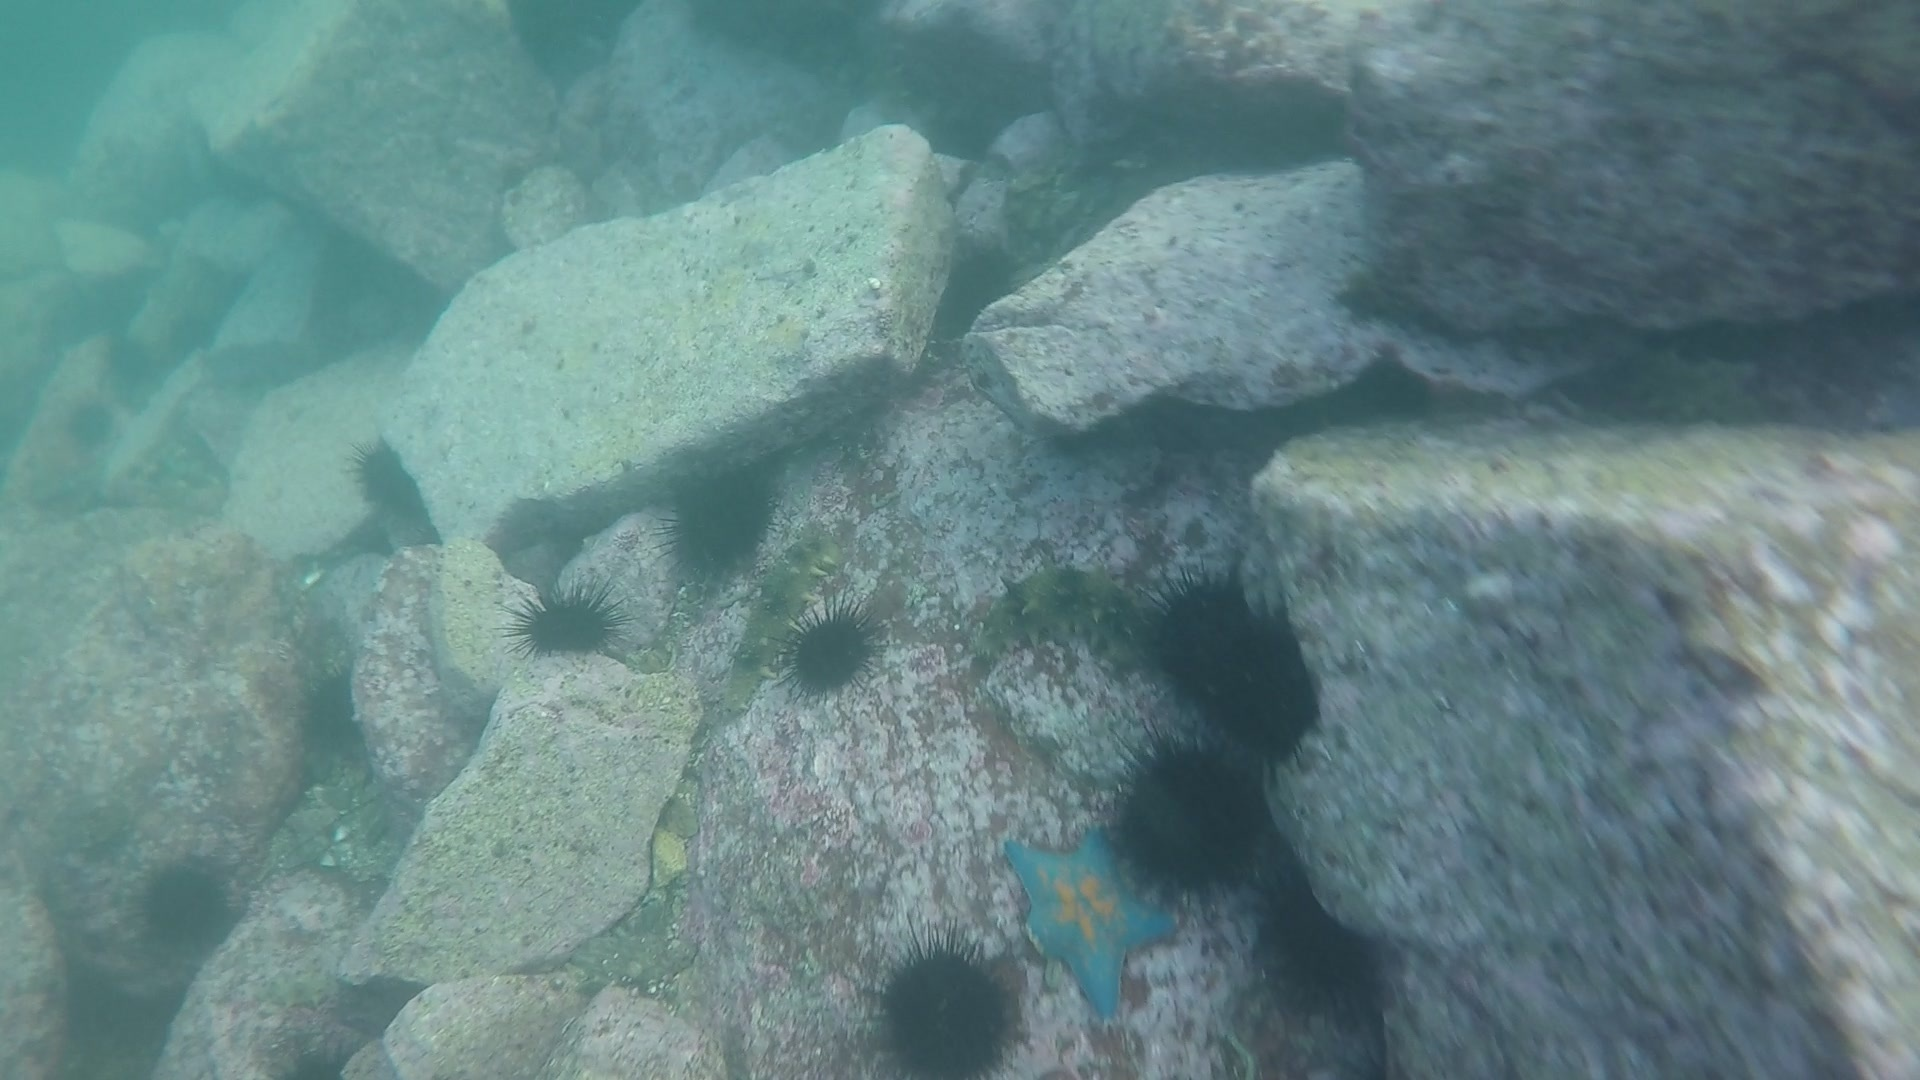echinus: (1102, 725, 1276, 905), (865, 926, 1031, 1077), (1187, 604, 1329, 769), (1133, 560, 1270, 704), (1253, 880, 1390, 1019), (653, 458, 783, 585), (773, 596, 889, 705), (131, 848, 243, 956), (502, 576, 629, 669), (928, 236, 1031, 347), (344, 433, 433, 527), (291, 666, 368, 764), (57, 393, 123, 456)
holothurian: (1560, 336, 1782, 430), (975, 553, 1147, 666), (758, 518, 848, 622)
starfish: (997, 825, 1180, 1022)
